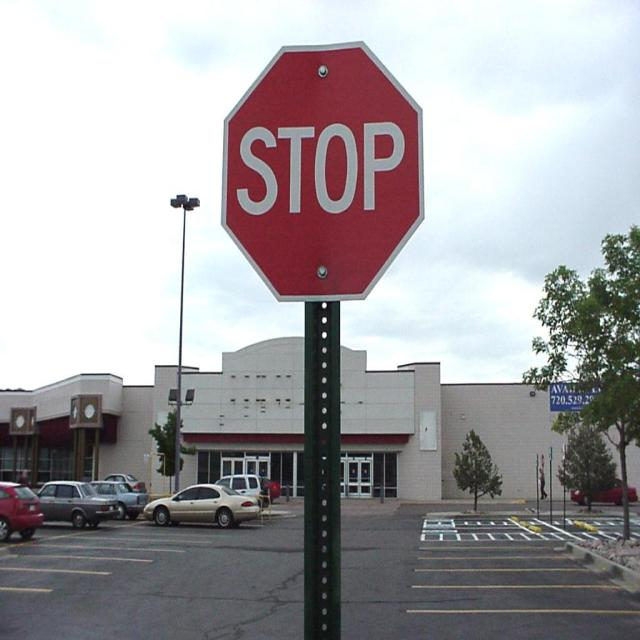Stop-sign: (219, 39, 426, 302)
